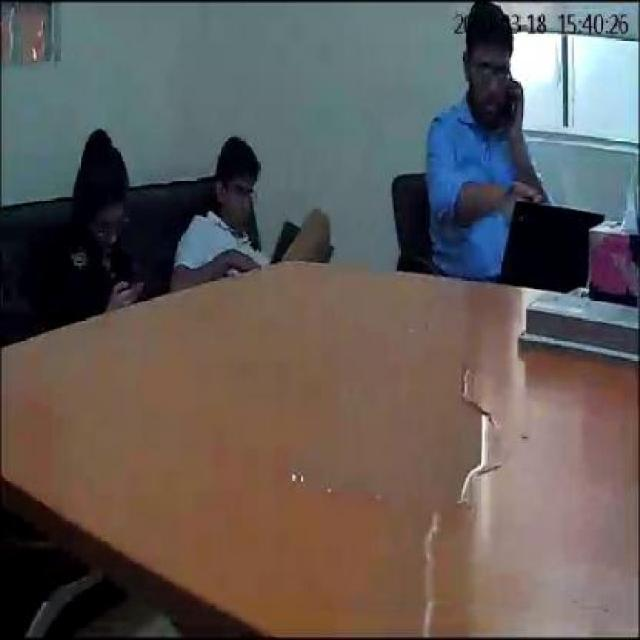spill: (288, 362, 492, 630)
